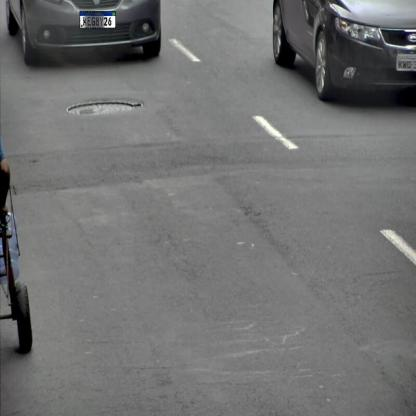PlacaM: (80, 11, 116, 29)
